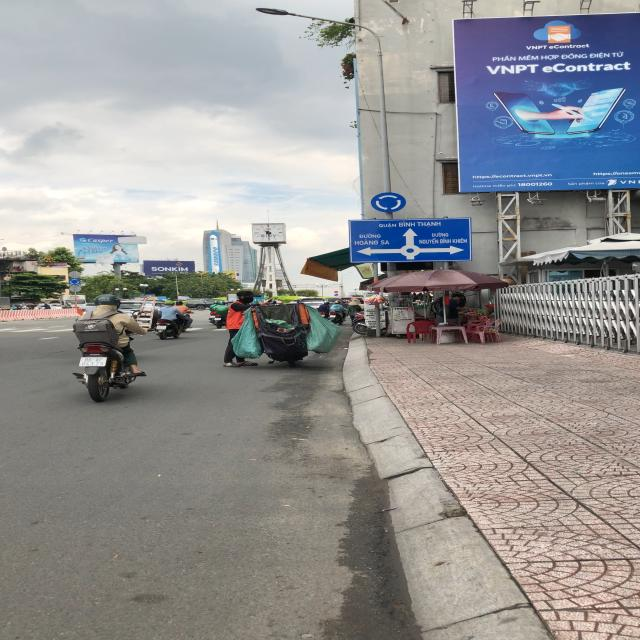Bien bao noi giao nhau chay theo vong xuyen: (368, 190, 409, 213), (68, 278, 82, 286)
